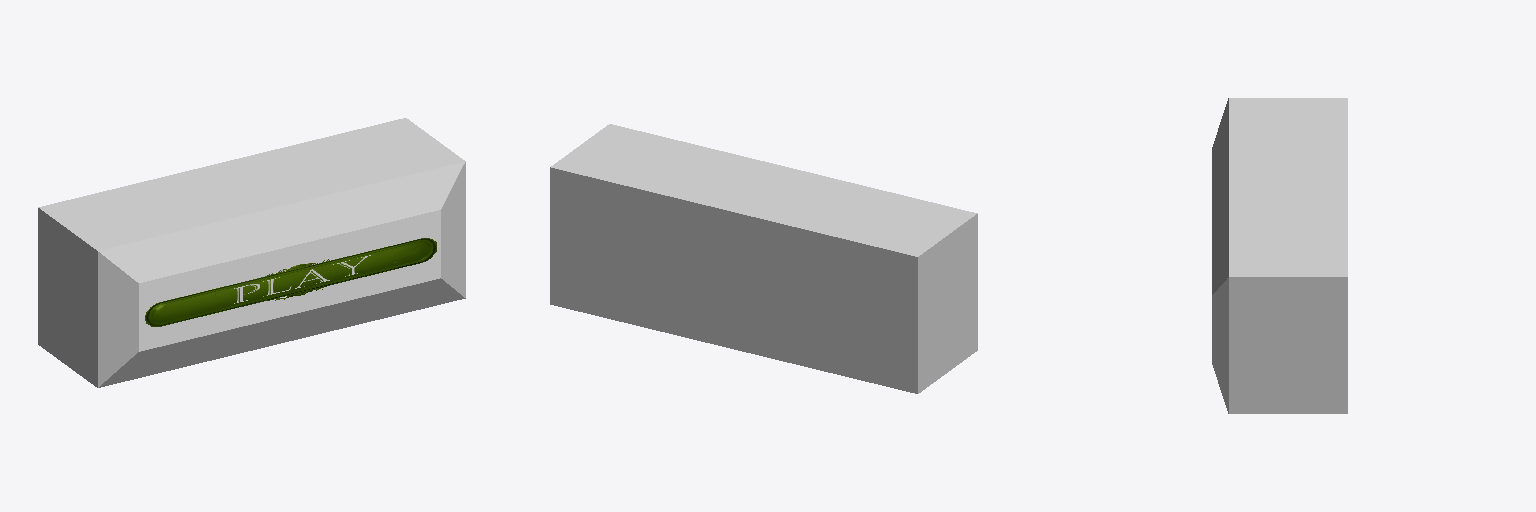
3 views of the same model, side by side, from view 1: azimuth 30°, elevation 25°; view 2: azimuth 150°, elevation 25°; view 3: azimuth 270°, elevation 25° (orthographic).
Parts seen in each view (by area): view 1: pCube2; view 2: pCube2; view 3: pCube2.
Part boxes in pixels (x1,y1,x2,y2): pCube2: (38,118,465,387); pCube2: (550,124,977,393); pCube2: (1212,98,1347,413).
Bounding box in the file's own units: 1.48 × 0.5265 × 0.4723.
Materials: 2 (1 with a texture image).